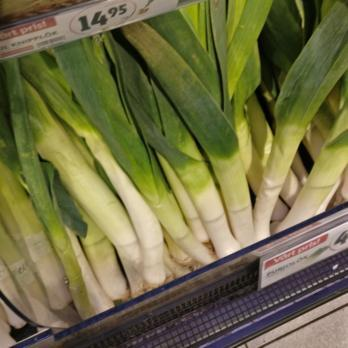Leek Leaves: (1, 62, 327, 228), (0, 197, 142, 302)
